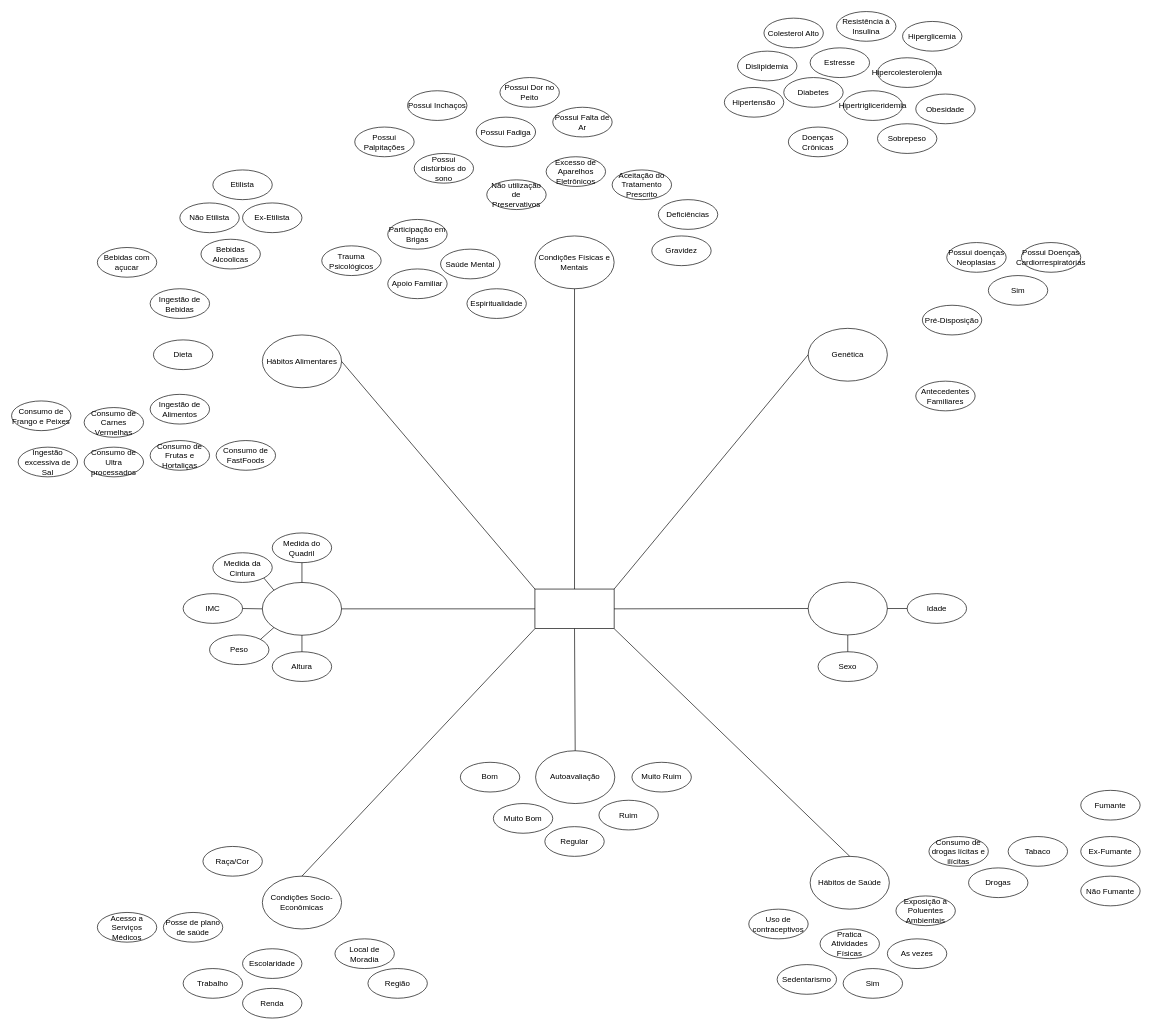
Some shapes in this 1152 by 1030 pixel diagram are drawn without their labels. Each missing label, with the centre of its shape:
Antropometria: the point at 302,608
Características do indivíduo: the point at 847,608
Doenças Cardiacas: the point at 574,608
